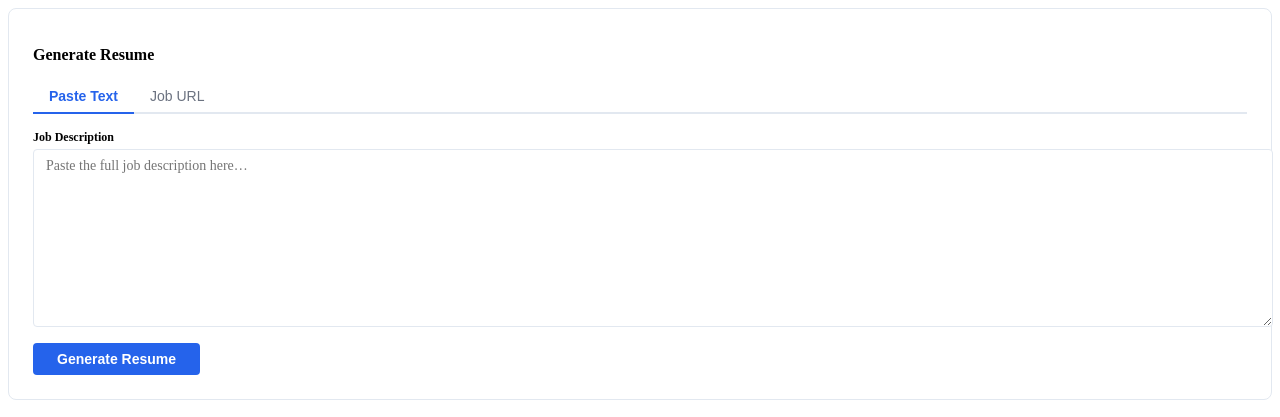
JobDescriptionInput › switches to URL input on tab click
Click the tab "Job URL" at (177, 97), box x1=134 y1=80 x2=220 y2=114
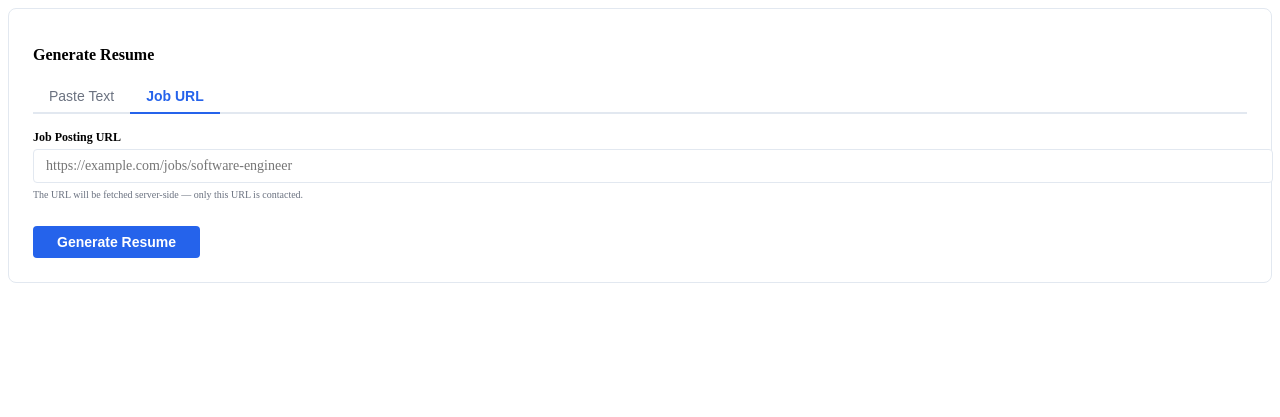
Expected: the field labelled "Job Posting URL" is shown, x1=33 y1=149 x2=1273 y2=183
